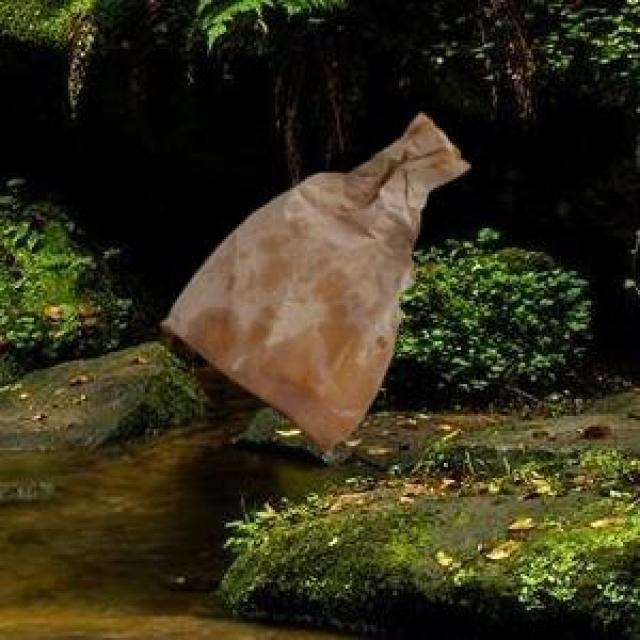paper: (158, 109, 465, 452)
